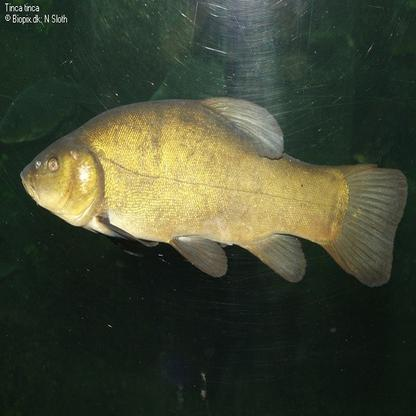fish: (19, 97, 408, 287)
